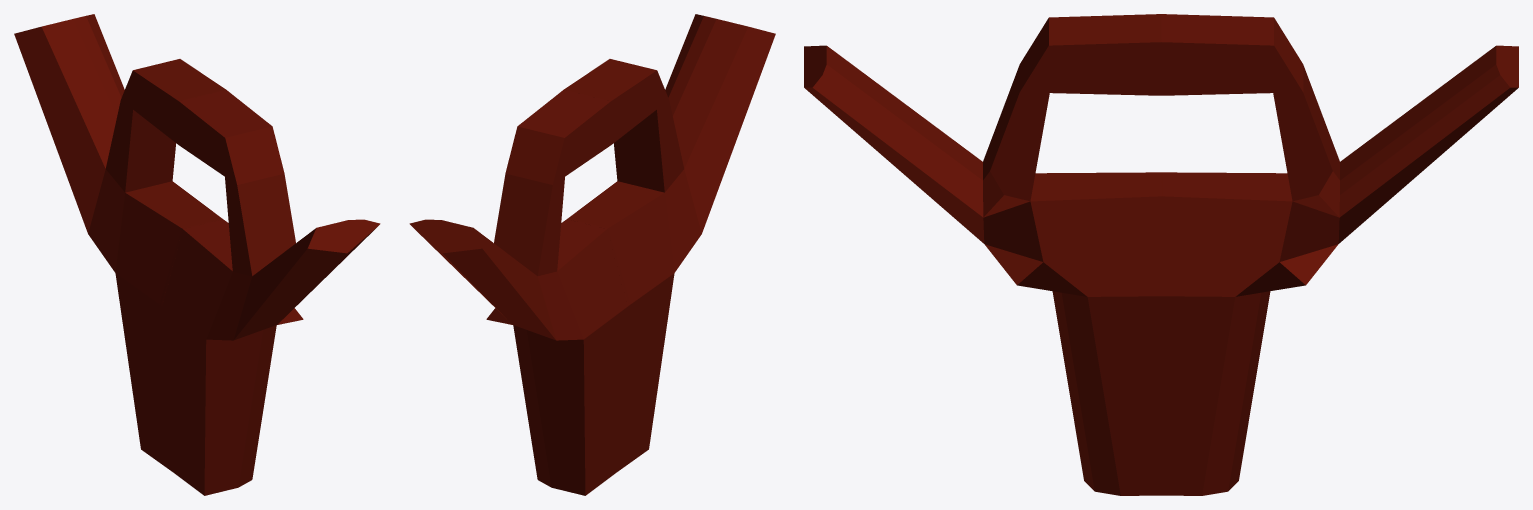
The model's file is Beard_1.fbx.
3 views of the same model, side by side, from view 1: azimuth 30°, elevation 25°; view 2: azimuth 150°, elevation 25°; view 3: azimuth 270°, elevation 25° (orthographic). The views are drawn at different scales.
Parts seen in each view (by area): view 1: Beard 1; view 2: Beard 1; view 3: Beard 1.
Boxes of the visible parts, box(x1,y1,x2,y2) form: Beard 1: box(14, 14, 380, 495); Beard 1: box(409, 14, 775, 495); Beard 1: box(804, 14, 1518, 495).
Bounding box in the file's own units: 7.74 × 32.69 × 47.02.
